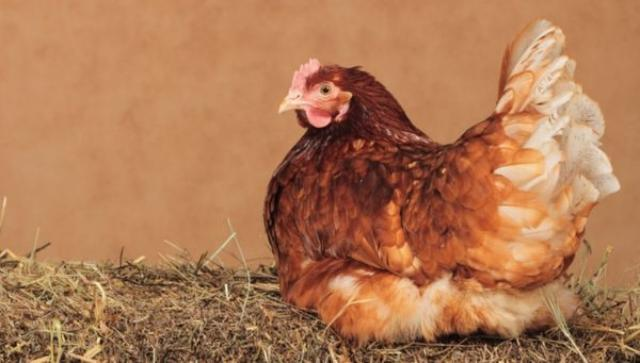Chicken: (263, 17, 620, 340)
